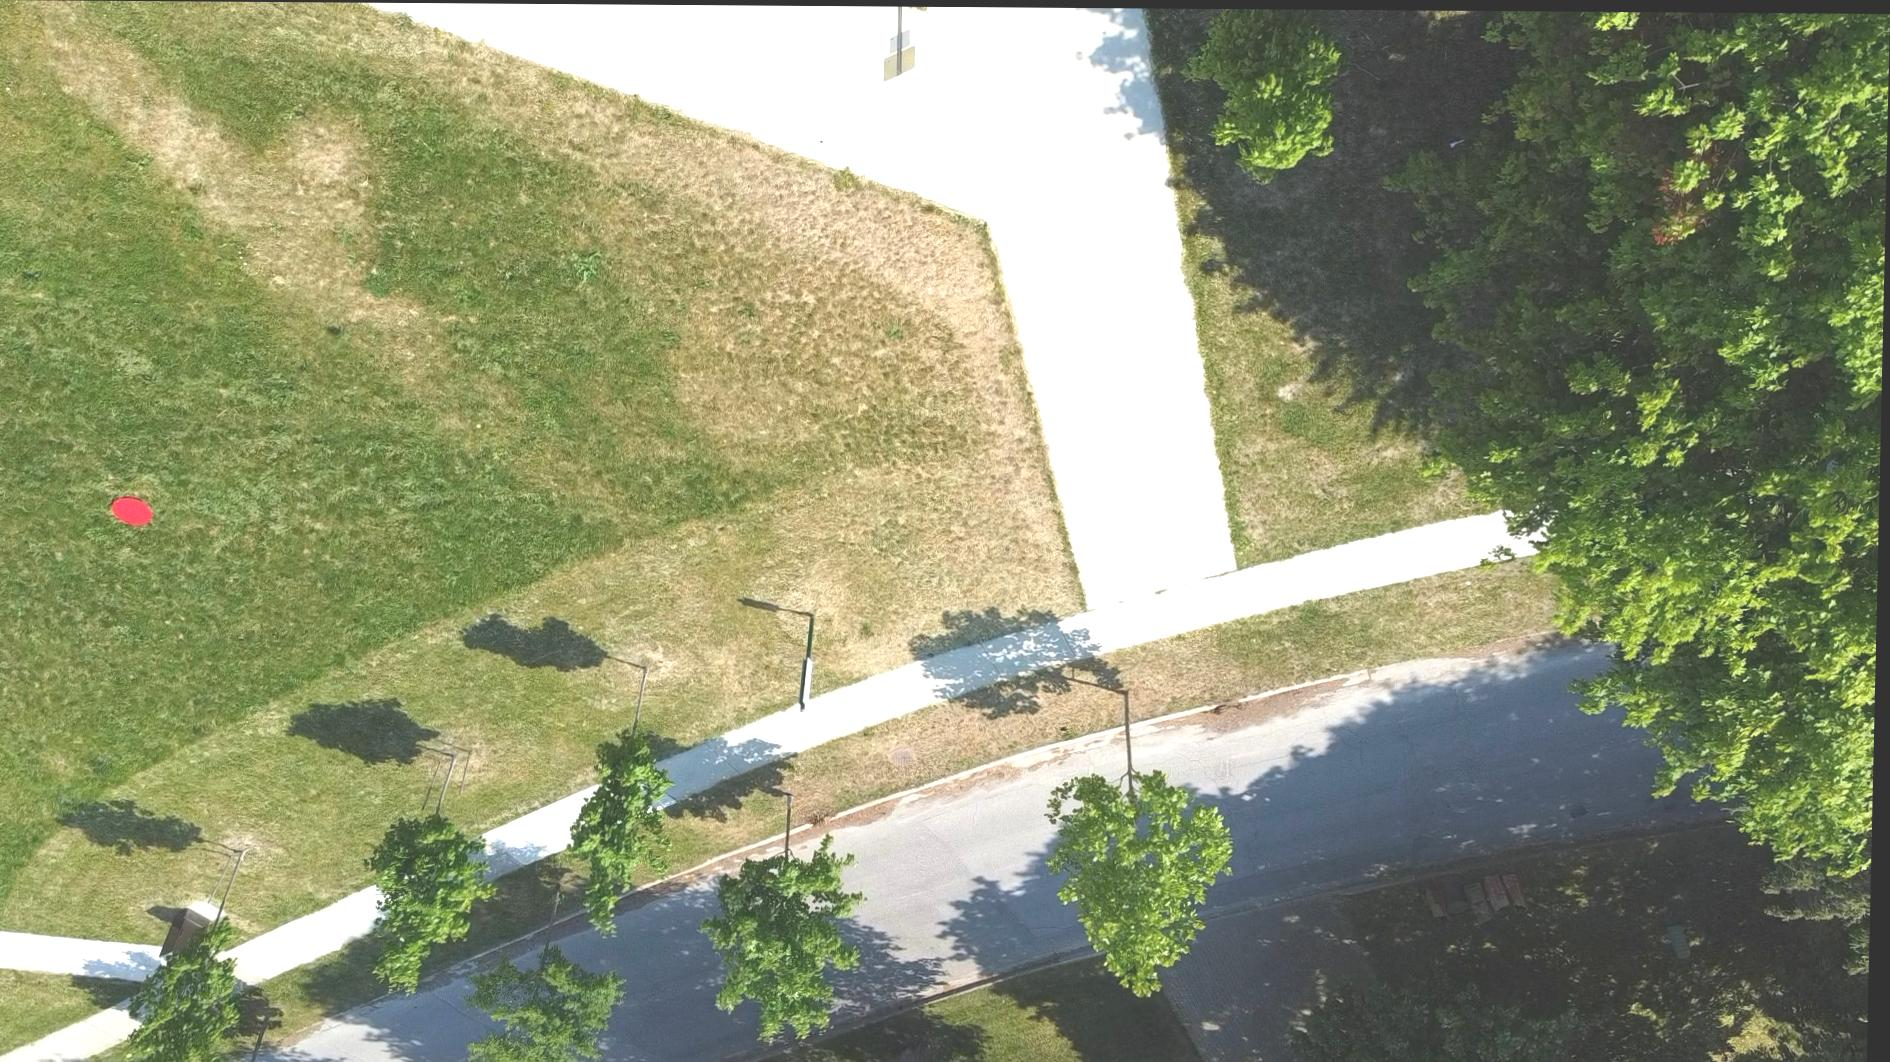Red: (112, 496, 156, 528)
